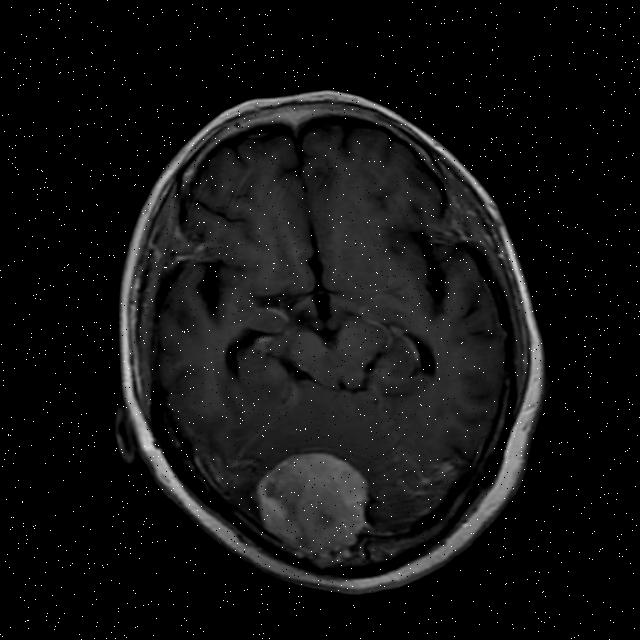Meningioma: (246, 438, 386, 577)
